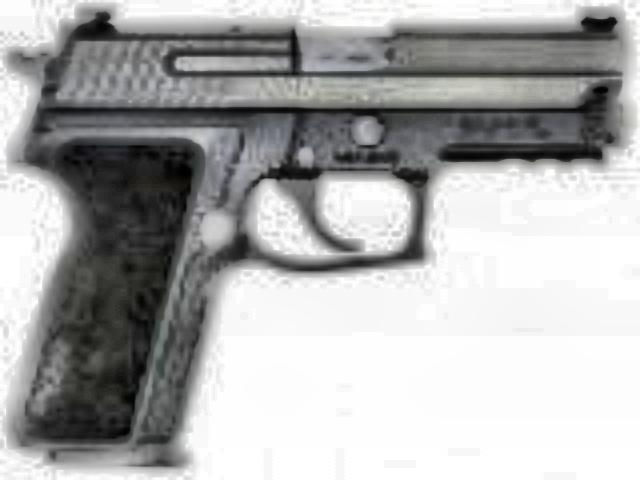pistol: (0, 0, 628, 464)
